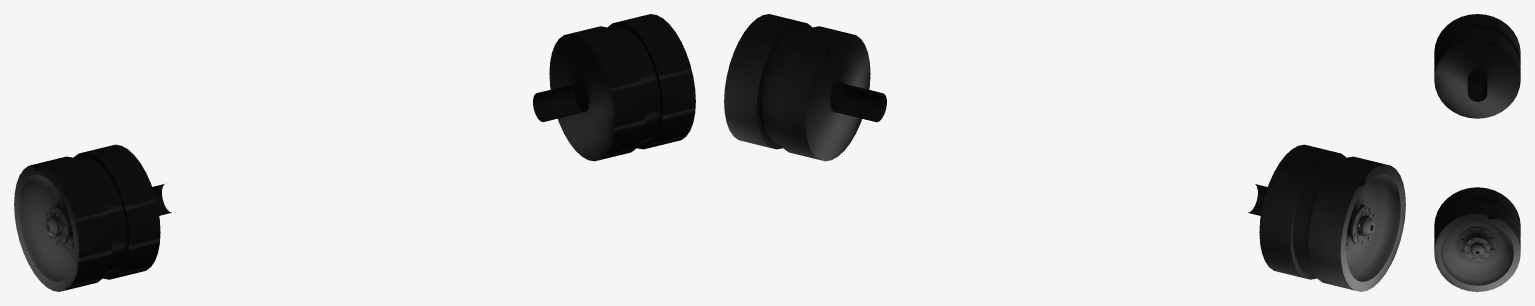
File: Leopard_2A6front.fbx
3 views of the same model, side by side, from view 1: azimuth 30°, elevation 25°; view 2: azimuth 150°, elevation 25°; view 3: azimuth 270°, elevation 25° (orthographic). The views are drawn at different scales.
Parts seen in each view (by area): view 1: Circle.002; view 2: Circle.002; view 3: Circle.002.
Part boxes in pixels (x1,y1,x2,y2): Circle.002: (14, 14, 695, 291); Circle.002: (724, 14, 1405, 291); Circle.002: (1434, 14, 1520, 291).
Bounding box in the file's own units: 687 × 126 × 126.
2 materials, 2 textured.
